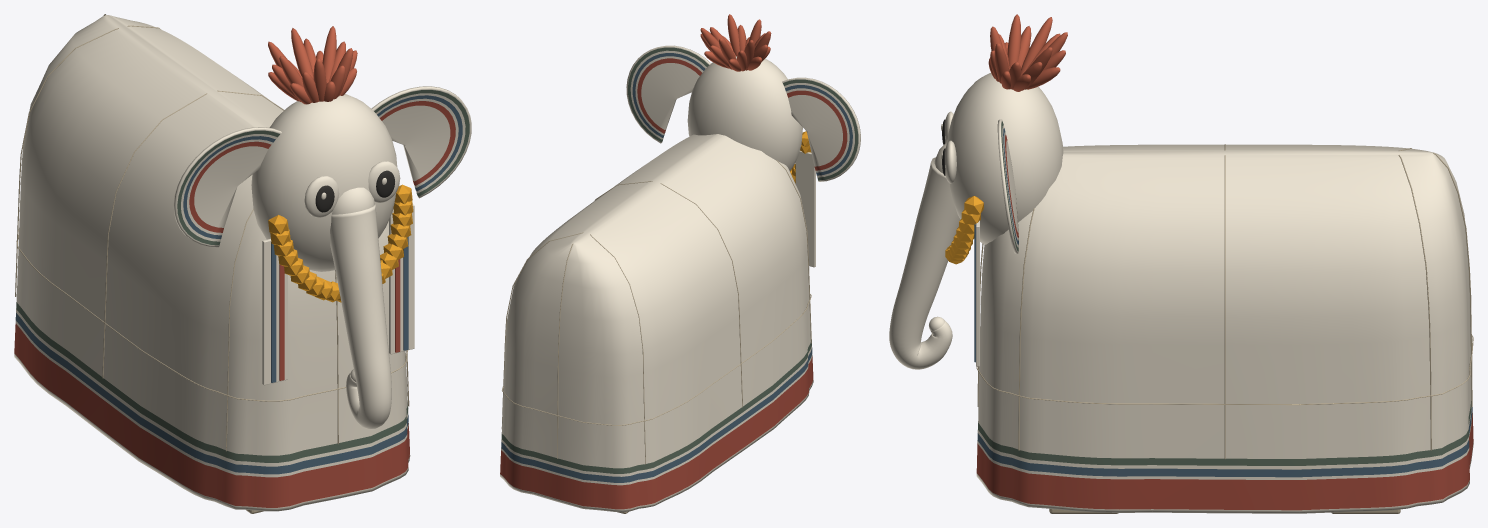
Rendered from pulu_kisi_blockout_v01.glb.
3 renders of one model, left to right at view 1: azimuth 30°, elevation 25°; view 2: azimuth 150°, elevation 25°; view 3: azimuth 270°, elevation 25°, orthographic. The views are drawn at different scales.
Visible parts, largest first — view 1: ClothRoot_Mesh, HeadRoot_Mesh, TrunkRoot_Mesh, TrimRoot_Mesh, Ear_R_Mesh, Ear_L_Mesh, TuftRoot_Mesh, GarlandRoot_Mesh; view 2: ClothRoot_Mesh, HeadRoot_Mesh, Ear_L_Mesh, Ear_R_Mesh, TrimRoot_Mesh, TuftRoot_Mesh; view 3: ClothRoot_Mesh, HeadRoot_Mesh, TrunkRoot_Mesh, TuftRoot_Mesh, TrimRoot_Mesh, Ear_R_Mesh, GarlandRoot_Mesh.
Part boxes in pixels (x1,y1,x2,y2): ClothRoot_Mesh: (14,15,410,511); HeadRoot_Mesh: (251,94,400,271); TrunkRoot_Mesh: (330,187,391,428); TrimRoot_Mesh: (15,14,414,451); Ear_R_Mesh: (371,86,471,198); Ear_L_Mesh: (173,127,281,247); TuftRoot_Mesh: (268,26,357,104); GarlandRoot_Mesh: (268,184,413,302); ClothRoot_Mesh: (500,134,813,512); HeadRoot_Mesh: (687,56,802,170); Ear_L_Mesh: (782,77,860,181); Ear_R_Mesh: (626,45,710,143); TrimRoot_Mesh: (501,150,815,464); TuftRoot_Mesh: (700,14,771,71); ClothRoot_Mesh: (976,144,1473,513); HeadRoot_Mesh: (941,73,1063,244); TrunkRoot_Mesh: (889,143,960,369); TuftRoot_Mesh: (988,14,1067,91); TrimRoot_Mesh: (974,144,1473,458); Ear_R_Mesh: (997,119,1018,253); GarlandRoot_Mesh: (945,196,983,264).
Bounding box in the file's own units: 2.21 × 3.33 × 3.84.
